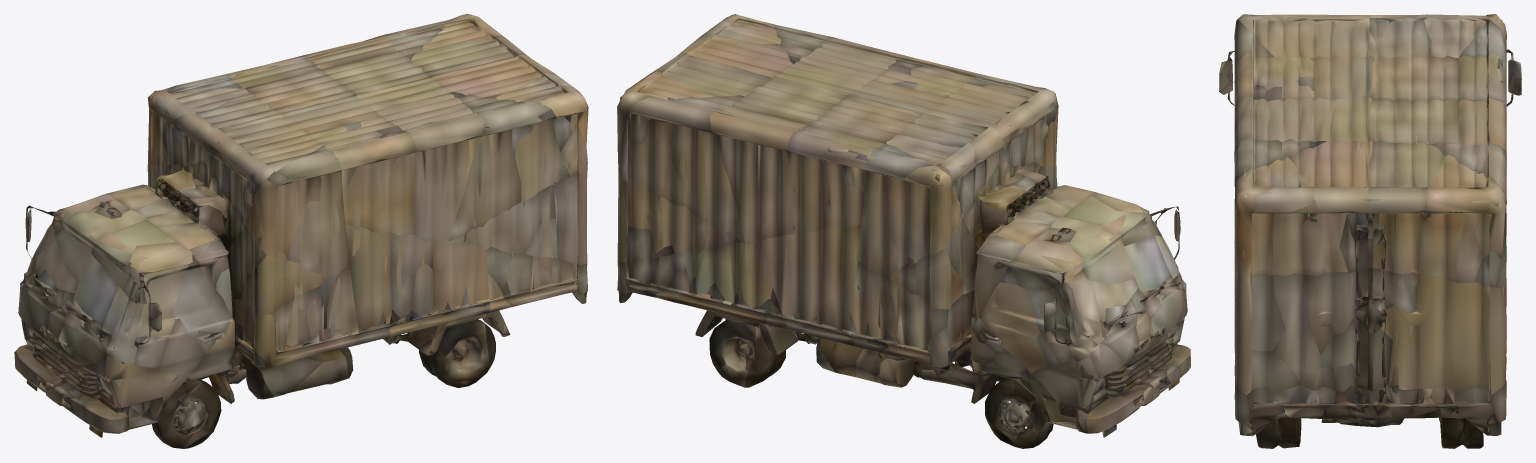
Rendered from car_delivery_light_q1.glb.
3 renders of one model, left to right at view 1: azimuth 30°, elevation 25°; view 2: azimuth 150°, elevation 25°; view 3: azimuth 270°, elevation 25°, orthographic. The views are drawn at different scales.
Size of the model in its own units: 4.59 by 2.5 by 2.17.
1 material, 1 textured.
